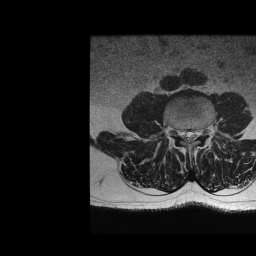CCS_normal: (187, 123, 192, 147)
LFS_normal: (198, 121, 205, 140)
LLS_normal: (192, 122, 198, 144)
RFS_normal: (174, 122, 181, 142)
RLS_normal: (181, 123, 187, 145)
